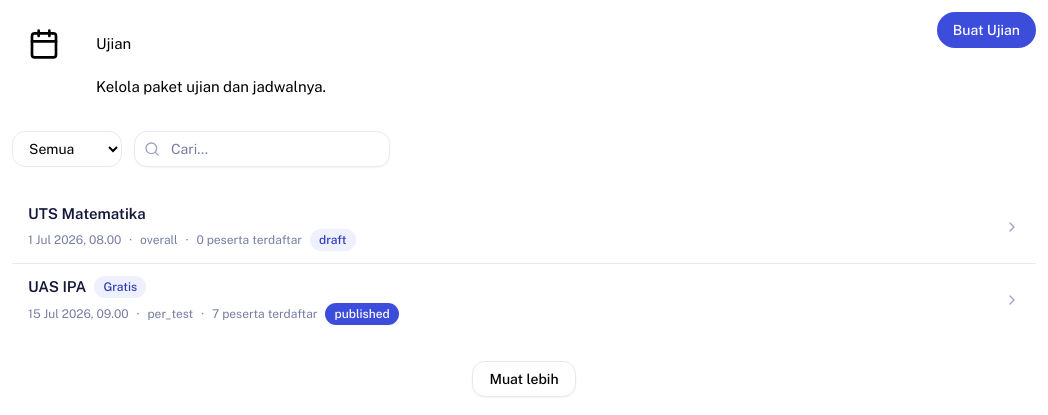
Test case: ExamPackagesPage › resets accumulated pages when debounced search or status changes
Step 1. Click the button "Muat lebih" → x=524, y=378, box [472,360,576,396]
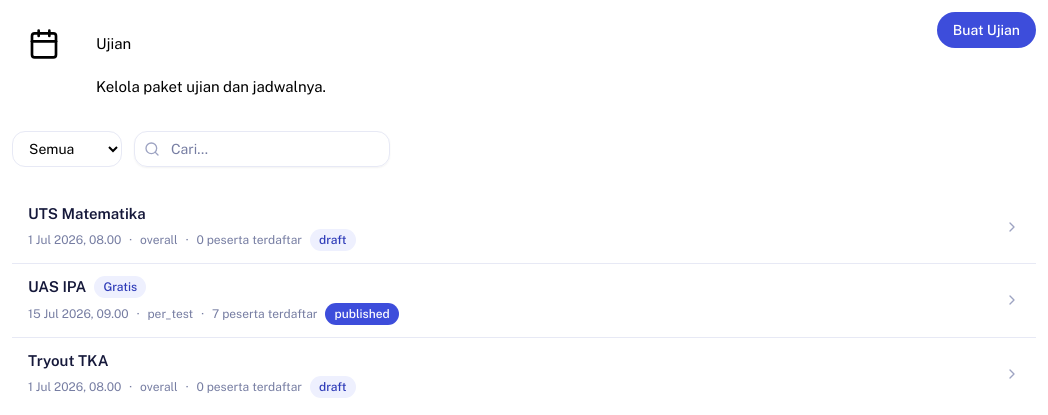
Check: the text "Tryout TKA" is shown, box [28,350,109,372]
Step 2. Type "fisika" into the field with placeholder "Cari…" → x=262, y=148, box [134,130,390,166]
Wait 300 ms
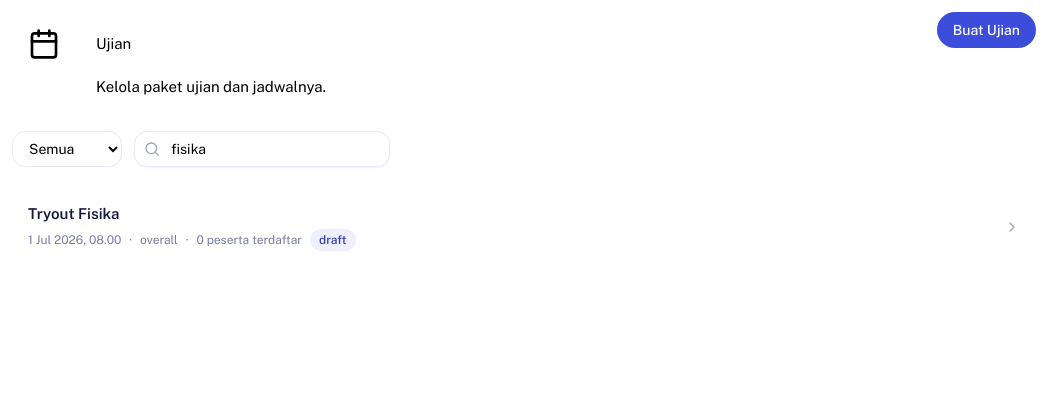
Check: the text "Tryout Fisika" is shown, box [28,202,119,225]
Check: the button "Tryout TKA" is gone
Check: the button "UTS Matematika" is gone
Step 3. Select "published" in the dropdown → x=67, y=148, box [12,130,122,166]
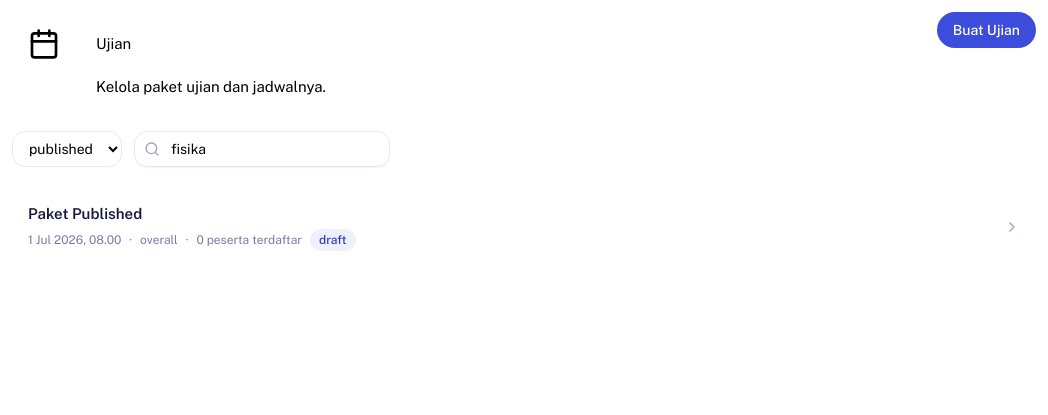
Check: the text "Paket Published" is shown, box [28,202,142,225]
Check: the button "Tryout Fisika" is gone
